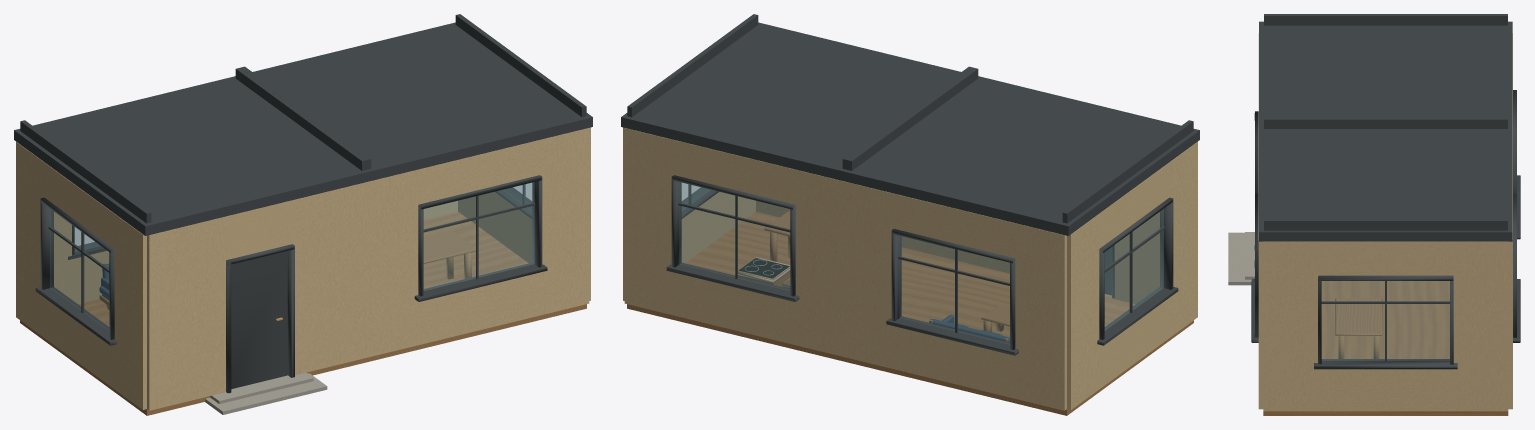
Rendered from bld-courtyard-lod-0782ad1b599f.glb.
The picture shows the model from 3 angles, left to right: view 1: azimuth 30°, elevation 25°; view 2: azimuth 150°, elevation 25°; view 3: azimuth 270°, elevation 25°; orthographic projection. The views are drawn at different scales.
Parts seen in each view (by area): view 1: surface_graphite, surface_plaster, surface_Optical_smoke, surface_oak, surface_stone; view 2: surface_graphite, surface_plaster, surface_Optical_smoke, surface_oak, surface_black; view 3: surface_graphite, surface_plaster, surface_oak, surface_Optical_smoke, surface_stone.
Boxes of the visible parts, x1,y1,x2,y2 form: surface_graphite: [14, 14, 592, 393]; surface_plaster: [16, 127, 590, 410]; surface_Optical_smoke: [50, 182, 534, 330]; surface_oak: [20, 212, 586, 415]; surface_stone: [205, 372, 327, 414]; surface_graphite: [621, 14, 1199, 355]; surface_plaster: [623, 127, 1197, 410]; surface_Optical_smoke: [679, 182, 1163, 344]; surface_oak: [627, 211, 1193, 415]; surface_black: [739, 258, 789, 278]; surface_graphite: [1251, 14, 1520, 369]; surface_plaster: [1258, 33, 1512, 411]; surface_oak: [1263, 281, 1508, 415]; surface_Optical_smoke: [1322, 281, 1449, 360]; surface_stone: [1228, 232, 1254, 285].
Bounding box in the file's own units: 8.39 × 3.51 × 4.77.
11 materials, 5 textured.
